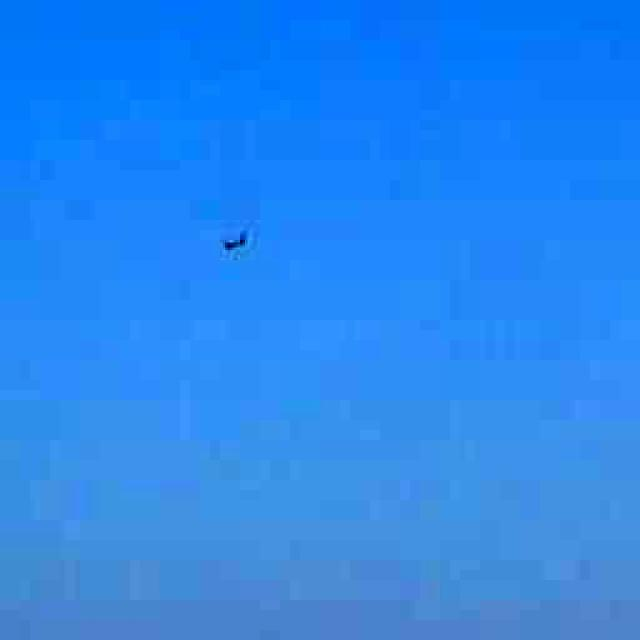bird: (204, 211, 269, 269)
